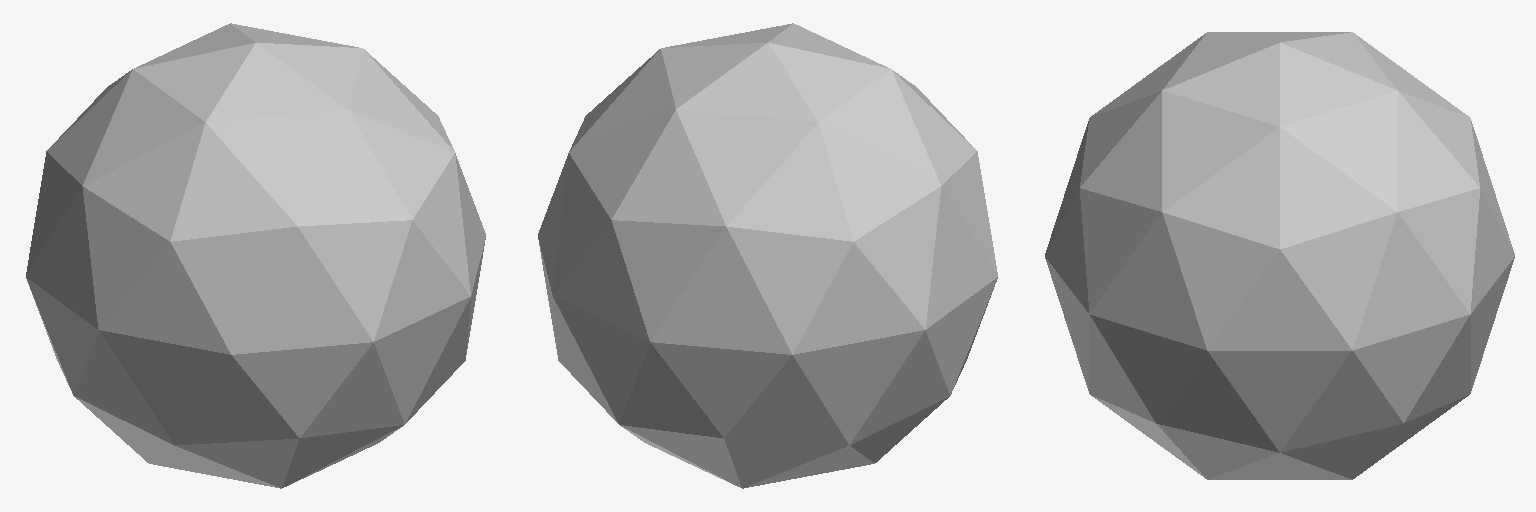
3 views of the same model, side by side, from view 1: azimuth 30°, elevation 25°; view 2: azimuth 150°, elevation 25°; view 3: azimuth 270°, elevation 25° (orthographic).
Visible parts, largest first — view 1: GeoSphere001; view 2: GeoSphere001; view 3: GeoSphere001.
Boxes of the visible parts, x1=… form: GeoSphere001: x1=26, y1=23, x2=485, y2=488; GeoSphere001: x1=538, y1=23, x2=997, y2=488; GeoSphere001: x1=1045, y1=32, x2=1514, y2=479.
Size of the model in its own units: 1.84 by 1.93 by 1.93.